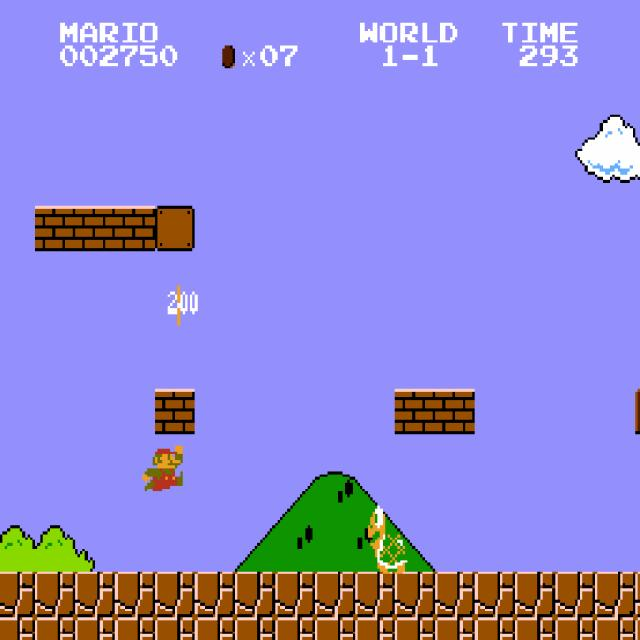brick_block: (35, 206, 75, 251), (75, 206, 115, 251), (115, 206, 155, 251), (155, 389, 195, 434), (395, 389, 435, 434), (435, 389, 475, 434)
empty_block: (155, 206, 195, 251)
koopa: (365, 506, 407, 574)
little_mario: (140, 443, 183, 492)
mystery_block: (635, 389, 640, 434)
undestructible_block: (35, 572, 75, 617), (75, 572, 115, 617), (115, 572, 155, 617), (155, 572, 195, 617), (195, 572, 235, 617), (235, 572, 275, 617), (275, 572, 315, 617), (315, 572, 355, 617), (355, 572, 395, 617), (395, 572, 435, 617), (435, 572, 475, 617), (475, 572, 515, 617), (515, 572, 555, 617), (555, 572, 595, 617), (595, 572, 635, 617), (0, 572, 35, 617), (35, 617, 75, 640), (75, 617, 115, 640), (115, 617, 155, 640), (155, 617, 195, 640), (195, 617, 235, 640), (235, 617, 275, 640), (275, 617, 315, 640), (315, 617, 355, 640), (355, 617, 395, 640), (395, 617, 435, 640), (435, 617, 475, 640), (475, 617, 515, 640), (515, 617, 555, 640), (555, 617, 595, 640), (595, 617, 635, 640), (0, 617, 35, 640), (635, 572, 640, 617), (635, 617, 640, 640)
